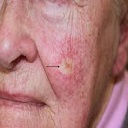Carcinoma: (58, 58, 84, 80)
